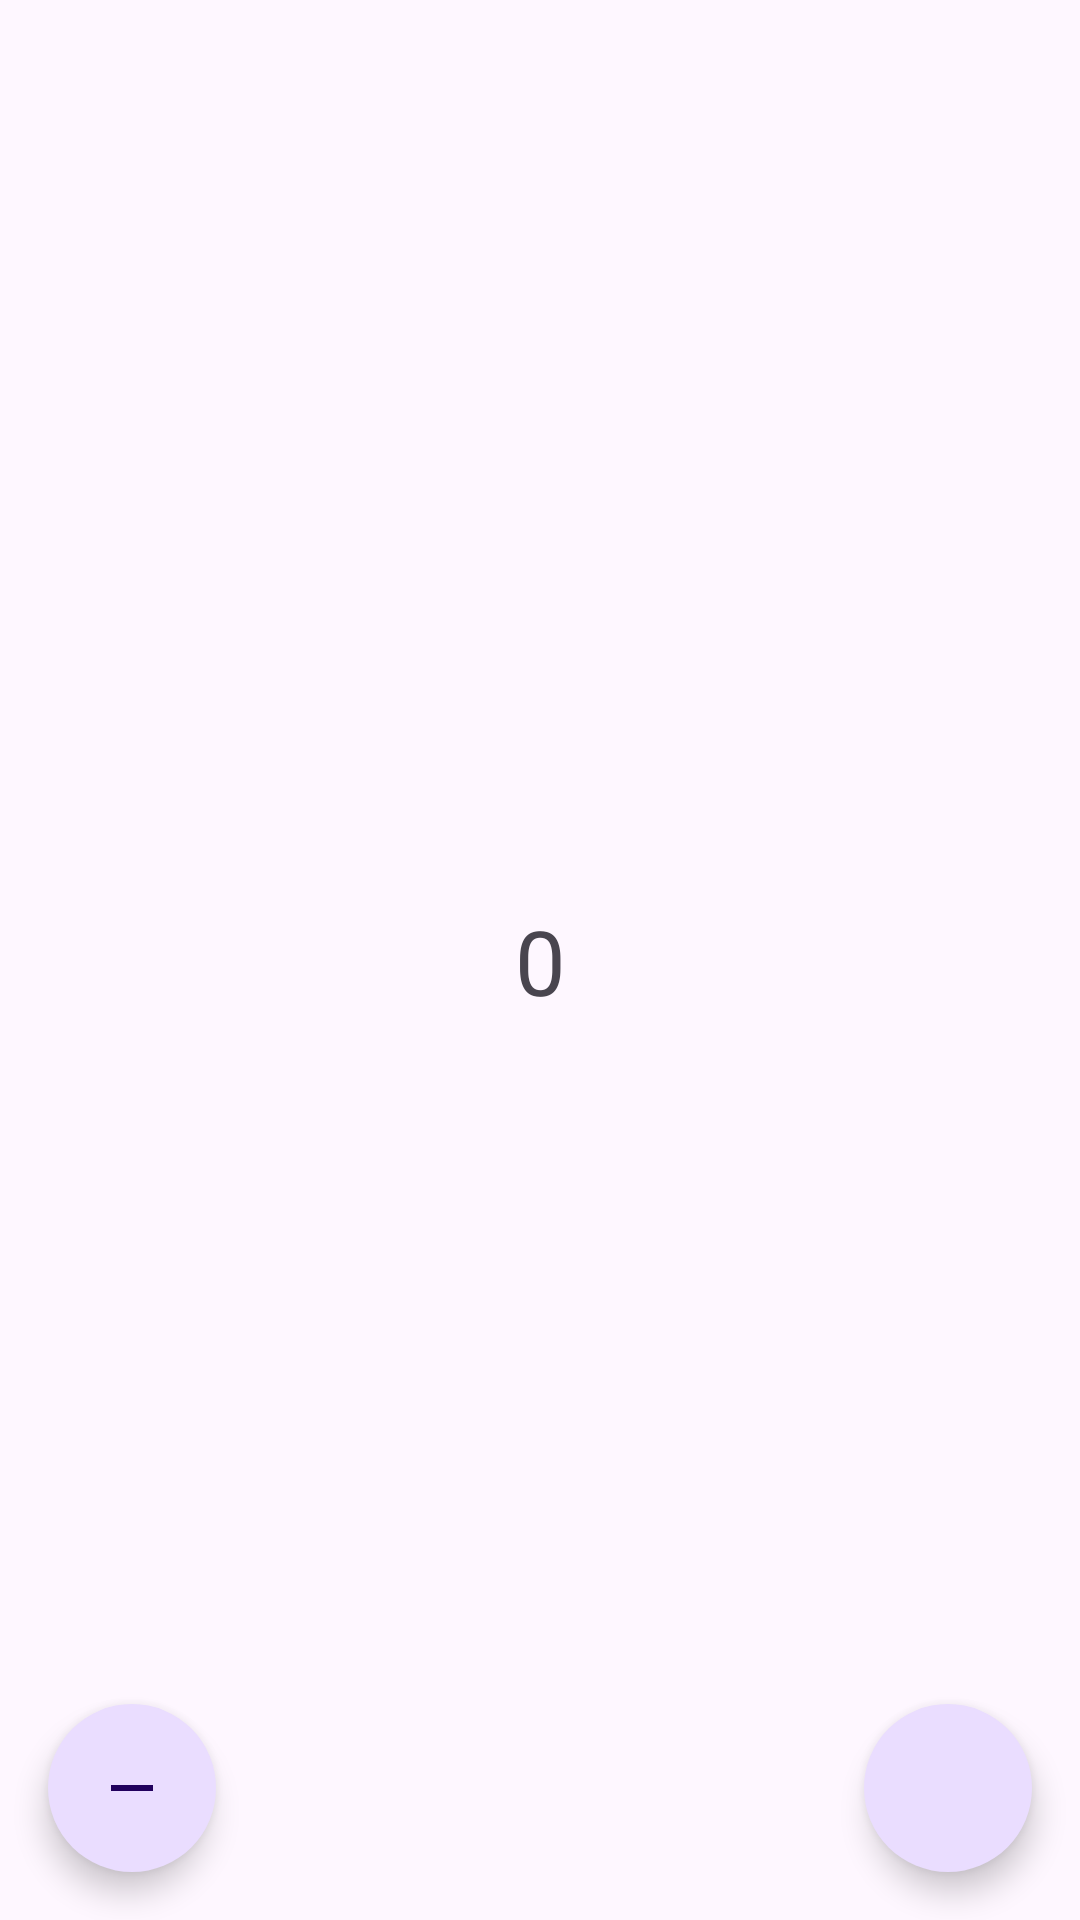

Point at icon controls on the screen. Image size 1080px×1920px, points as [x,y].
remove: [132,1788]
